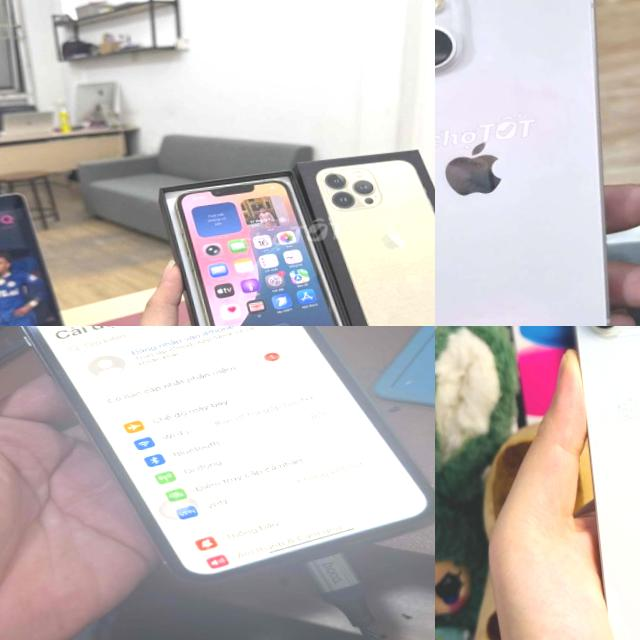gen_12_13: (435, 0, 626, 326), (173, 169, 346, 326)
gen_15: (550, 326, 640, 640)
gen_x_xs: (0, 326, 435, 603)
